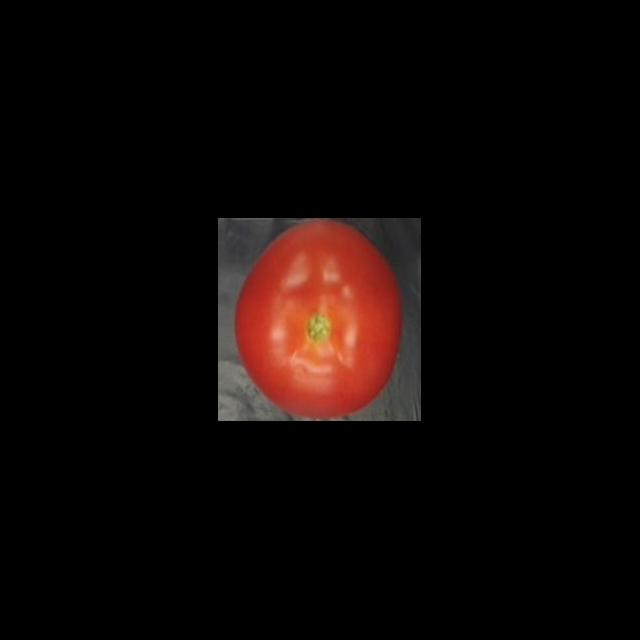tomato: (238, 218, 406, 422)
